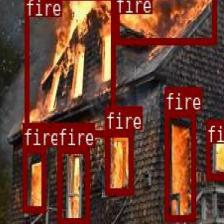fire: (25, 0, 115, 135), (114, 0, 215, 43), (164, 110, 194, 220), (56, 145, 88, 224), (105, 129, 132, 193), (22, 146, 44, 212), (206, 120, 224, 179)
